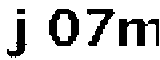0: (45, 6, 81, 49)
7: (83, 5, 116, 50)
j: (2, 4, 32, 60)
m: (116, 16, 160, 53)
